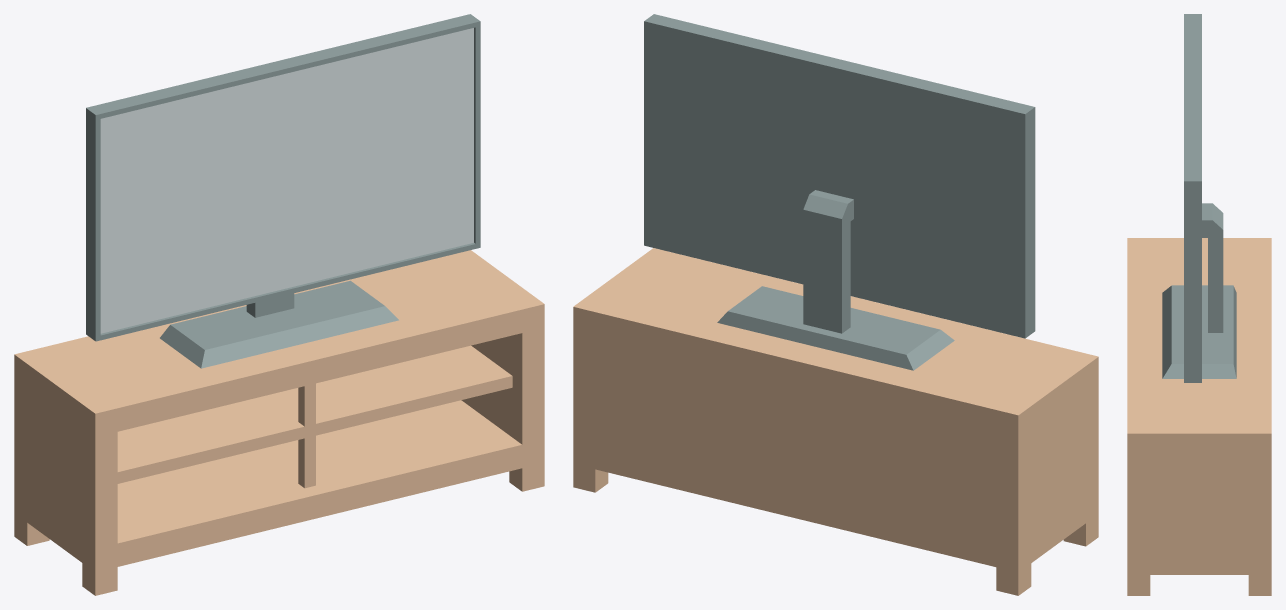
Rendered from tv_modern.glb.
The picture shows the model from 3 angles, left to right: view 1: azimuth 30°, elevation 25°; view 2: azimuth 150°, elevation 25°; view 3: azimuth 270°, elevation 25°; orthographic projection. The views are drawn at different scales.
Visible parts, largest first — view 1: cabinetTelevision(Clone), televisionModern(Clone); view 2: cabinetTelevision(Clone), televisionModern(Clone); view 3: cabinetTelevision(Clone), televisionModern(Clone).
Boxes of the visible parts, x1=… form: cabinetTelevision(Clone): x1=14, y1=250, x2=544, y2=595; televisionModern(Clone): x1=86, y1=14, x2=480, y2=368; cabinetTelevision(Clone): x1=573, y1=248, x2=1098, y2=595; televisionModern(Clone): x1=644, y1=14, x2=1035, y2=370; cabinetTelevision(Clone): x1=1127, y1=238, x2=1271, y2=595; televisionModern(Clone): x1=1162, y1=14, x2=1236, y2=382.
Bounding box in the file's own units: 1.64 × 1.57 × 0.5125.
